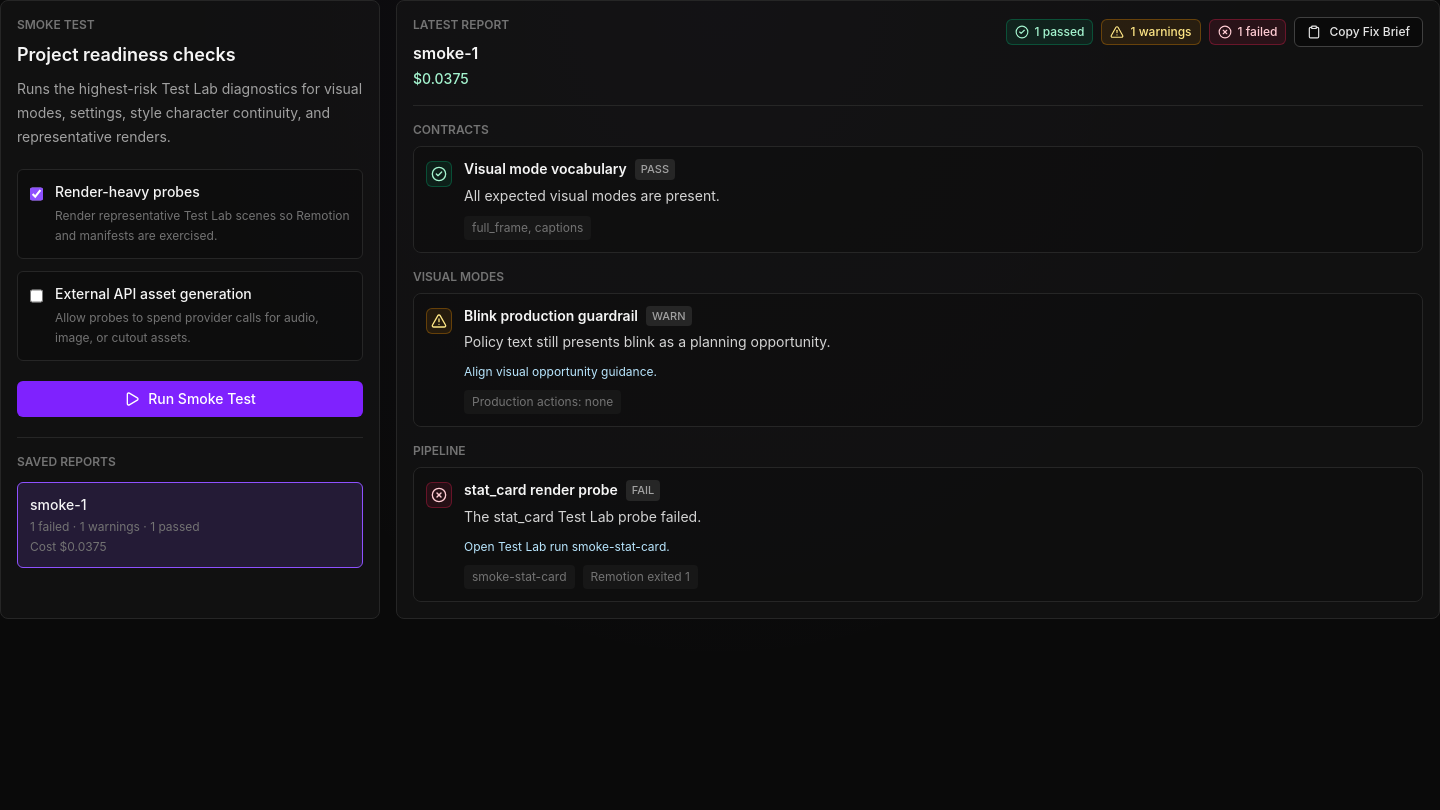
Test: SmokeTestLab › loads previous smoke tests and re-exports the selected report
Check: the button "smoke-1 1 failed · 1 warnings · 1 passed Cost $0.0375" is shown, box [17, 482, 363, 568]
Check: the text "Cost $0.0375" is shown, box [30, 539, 106, 554]
Step 1. Click the button "Copy Fix Brief" → (1359, 32), box [1294, 17, 1423, 47]
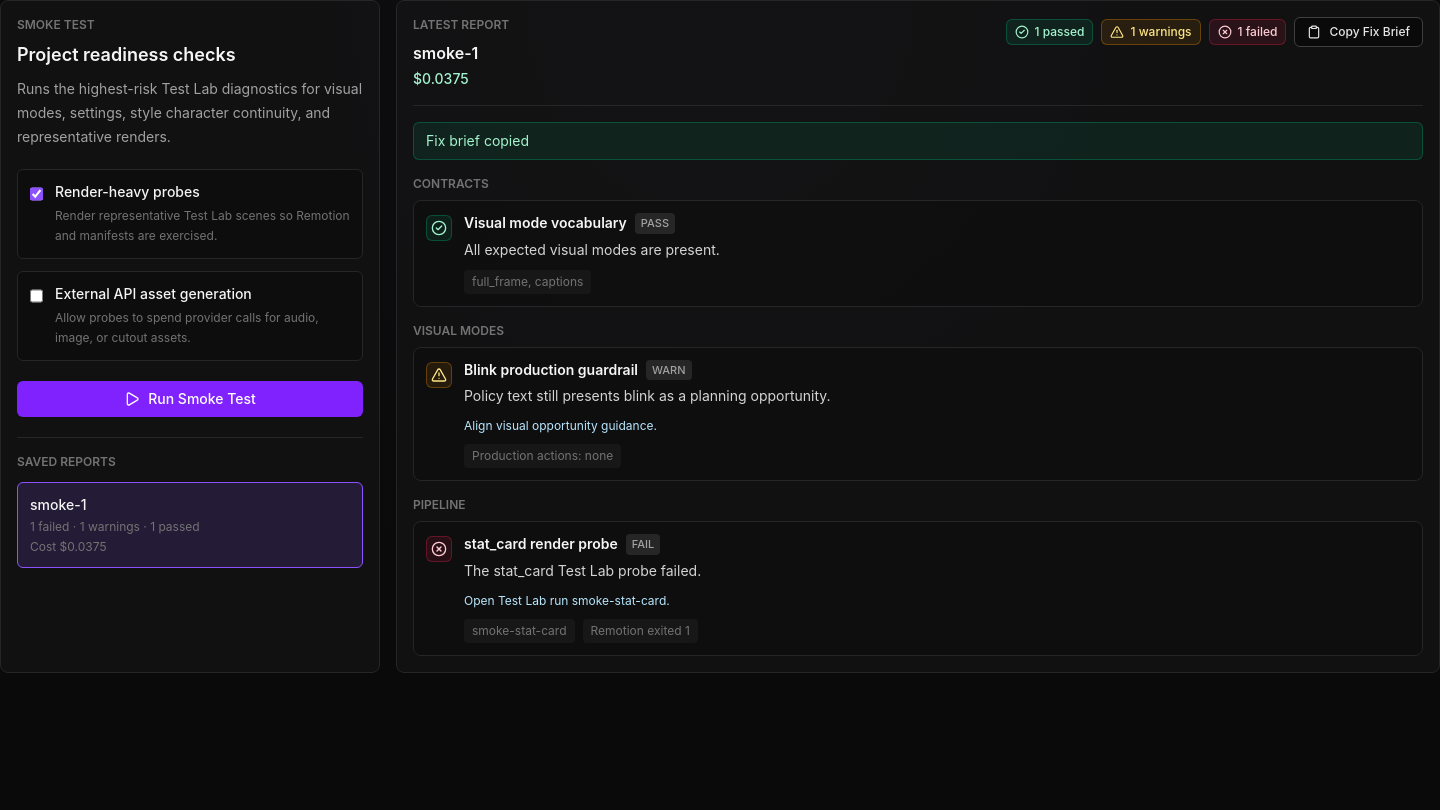
Check: the text "Fix brief copied" is shown, box [413, 122, 1423, 160]
